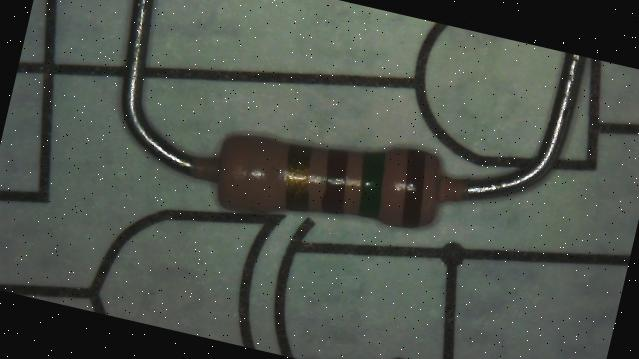brown: (392, 148, 434, 228), (316, 148, 354, 213)
gold: (276, 142, 320, 212)
green: (353, 149, 391, 218)
resistor: (196, 99, 467, 264)
